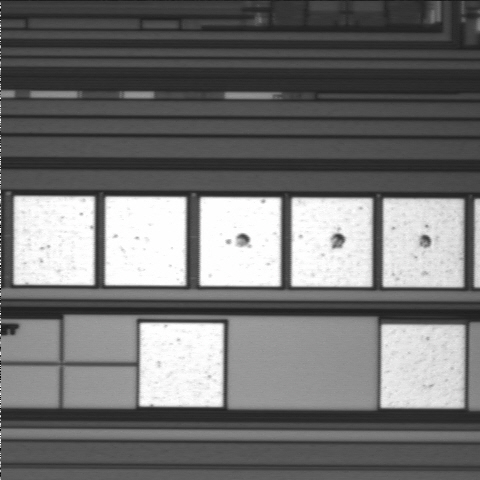pad: (14, 196, 95, 285), (105, 197, 186, 286), (200, 197, 281, 286), (291, 198, 372, 287), (139, 323, 224, 407), (383, 199, 463, 287), (381, 325, 464, 408)
